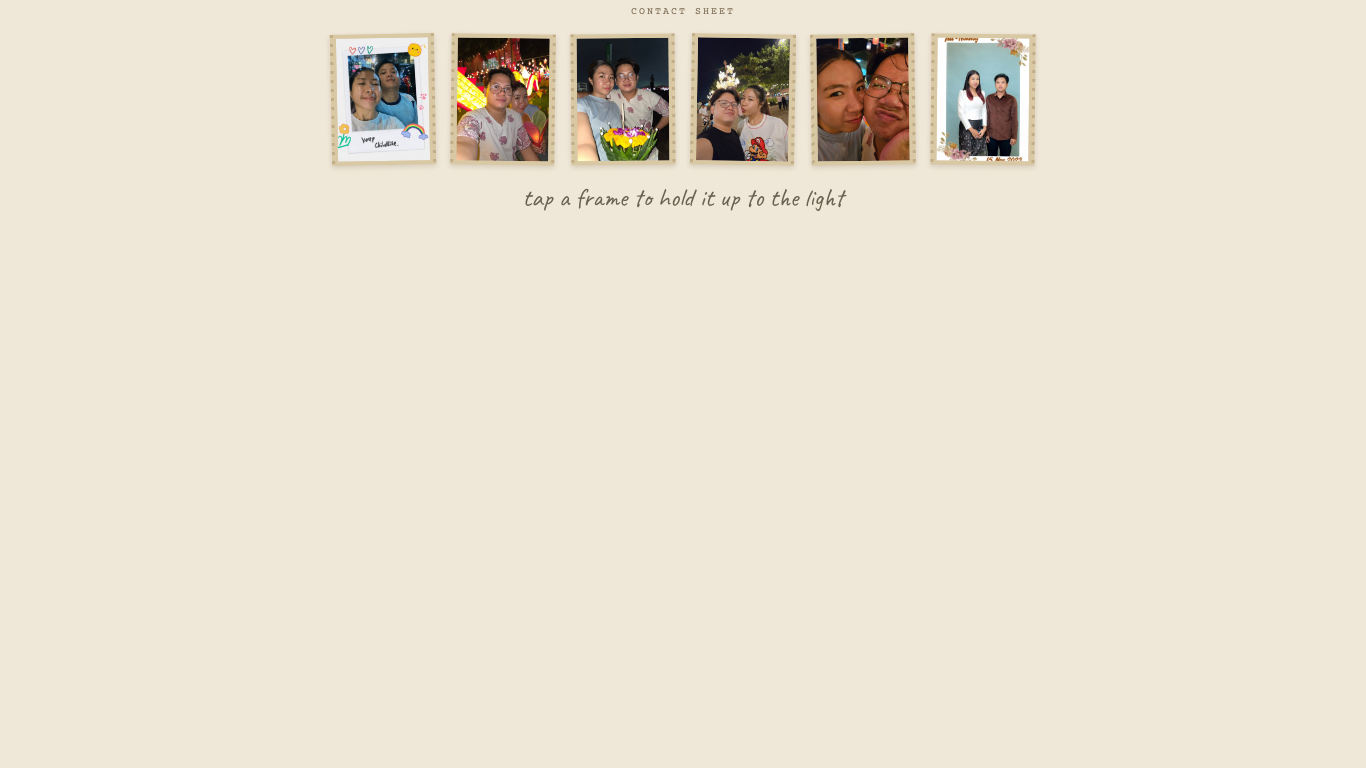
PlateLightbox › closes on Escape
Click the button named "Hold up".
click(383, 99)  # box [330,33,436,165]
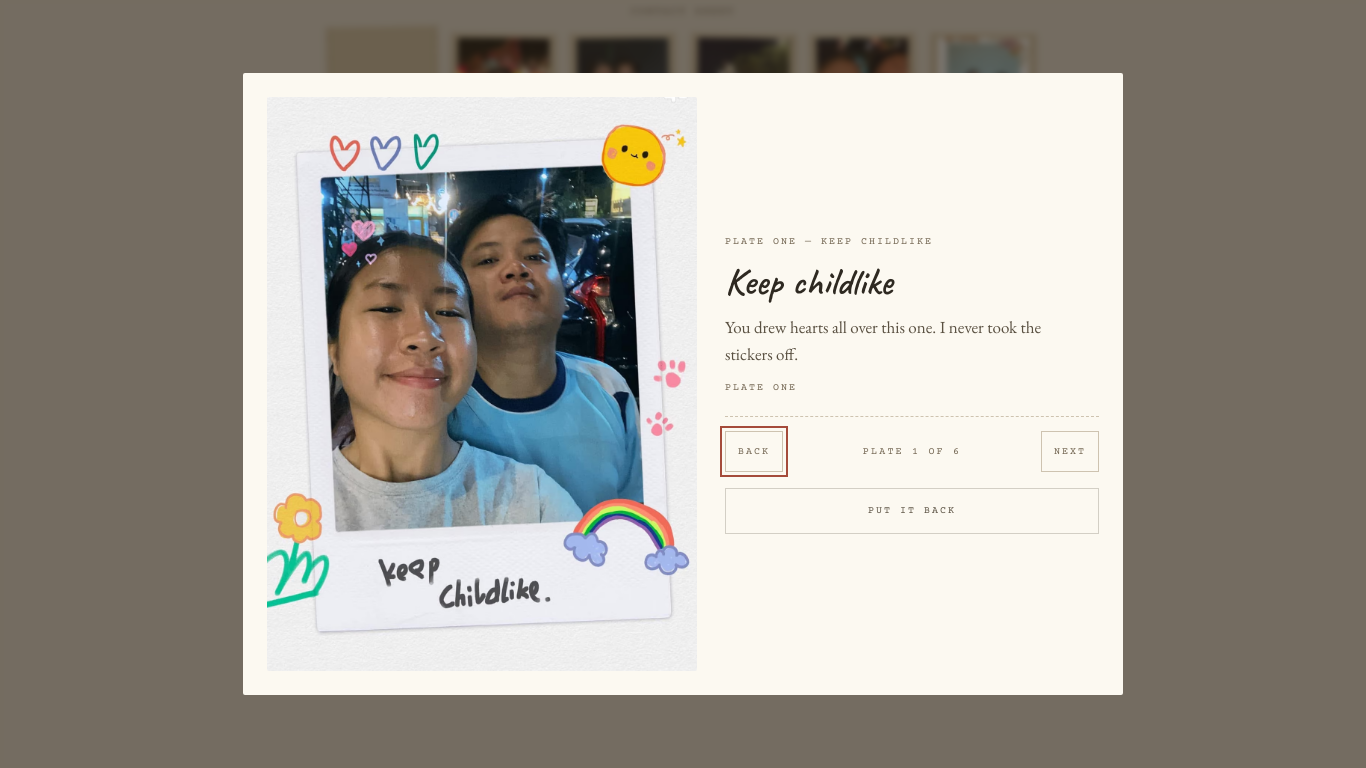
Press Escape
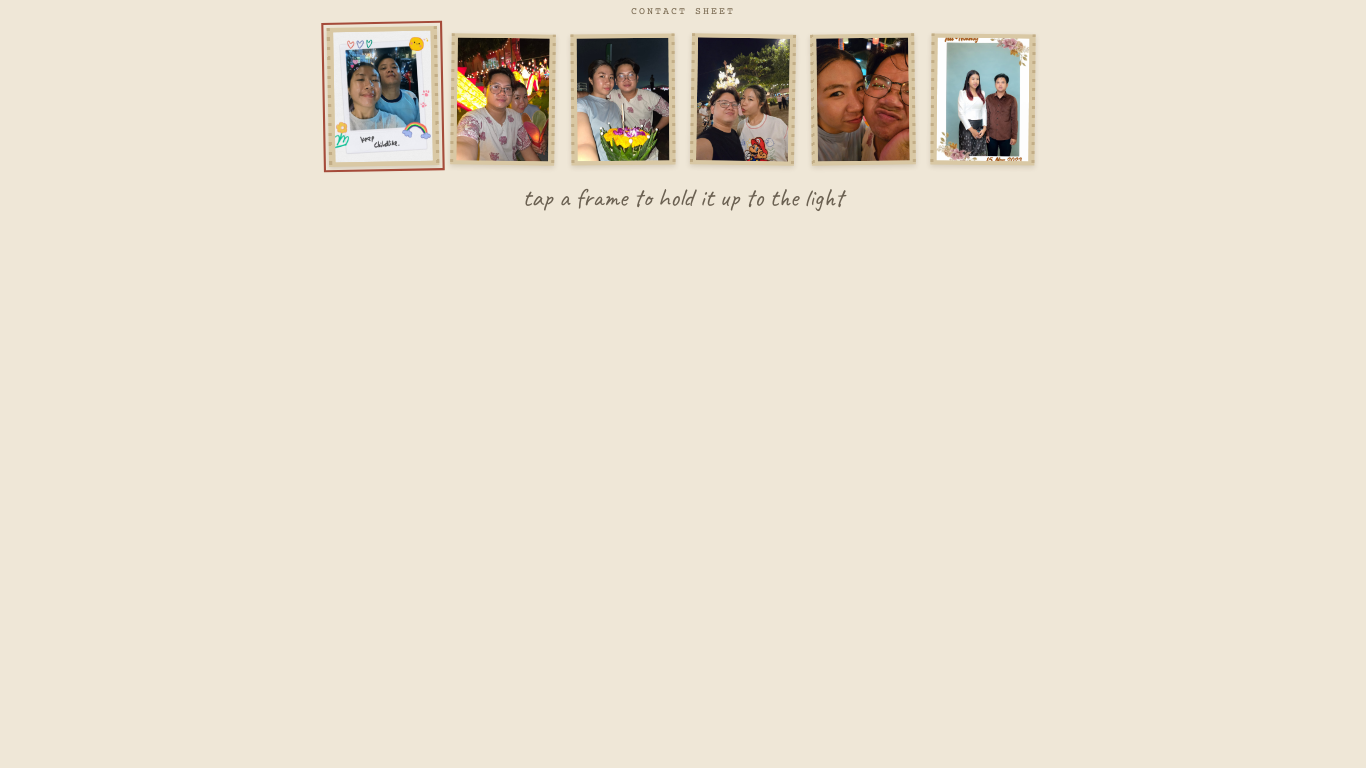
Expected: the dialog is gone
